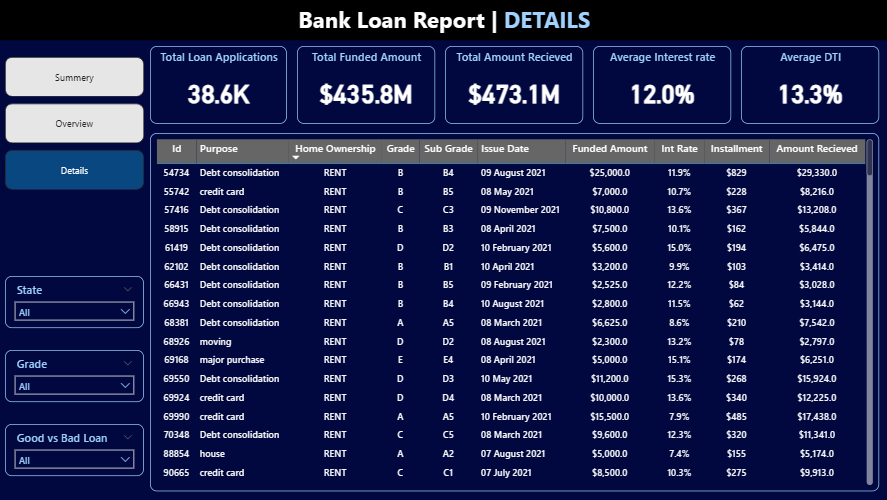

What the dashboard file says about the page in this screenshot:
{"tool":"powerbi","page":{"name":"Details","canvas":[1280,720],"ordinal":2},"visuals":[{"type":"textbox","box":[0,0,1280.2,57.6],"z":0},{"type":"card","title":"Total Loan Applications","fields":{"Values":["_Measures.Total Loan Applications"]},"box":[216,66.2,197.3,112.3],"z":1000},{"type":"card","title":"Total Funded Amount","fields":{"Values":["_Measures.Total Funded Amount"]},"box":[427.7,66.2,198.7,112.3],"z":2000},{"type":"card","title":"Total Amount Recieved","fields":{"Values":["_Measures.Total Amount recieved"]},"box":[640.8,66.2,198.7,112.3],"z":3000},{"type":"card","title":"Average Interest rate","fields":{"Values":["_Measures.Avg Interest Rate"]},"box":[853.9,66.2,198.7,112.3],"z":4000},{"type":"card","title":"Average DTI","fields":{"Values":["_Measures.Avg DTI"]},"box":[1067,66.2,198.7,112.3],"z":5000},{"type":"slicer","fields":{"Values":["public financial_loan.address_state"]},"box":[7.2,397.4,200.2,74.9],"z":6000},{"type":"slicer","fields":{"Values":["public financial_loan.grade"]},"box":[7.2,504,200.2,74.9],"z":7000},{"type":"slicer","fields":{"Values":["public financial_loan.Good vs Bad Loan"]},"box":[7.2,610.6,200.2,74.9],"z":8000},{"type":"tableEx","fields":{"Values":["public financial_loan.id","public financial_loan.purpose","public financial_loan.home_ownership","public financial_loan.grade","public financial_loan.sub_grade","public financial_loan.issue_date","_Measures.Total Funded Amount","Sum(public financial_loan.int_rate)","Sum(public financial_loan.installment)","_Measures.Total Amount recieved"]},"box":[216,191.5,1049.8,515.5],"z":9000},{"type":"pageNavigator","box":[7.2,82.1,200.2,191.5],"z":10000}]}

Visuals, with their boxes in screenshot pixels (x1, y1, x2, y2), scaled from the page's 1280x720 canvas onto the 887x500 screenshot:
textbox: l=0, t=0, r=886, b=40
"Total Loan Applications" card: l=150, t=46, r=286, b=124
"Total Funded Amount" card: l=296, t=46, r=434, b=124
"Total Amount Recieved" card: l=444, t=46, r=582, b=124
"Average Interest rate" card: l=592, t=46, r=729, b=124
"Average DTI" card: l=739, t=46, r=877, b=124
slicer - public financial_loan.address_state: l=5, t=276, r=144, b=328
slicer - public financial_loan.grade: l=5, t=350, r=144, b=402
slicer - public financial_loan.Good vs Bad Loan: l=5, t=424, r=144, b=476
tableEx - public financial_loan.id x public financial_loan.purpose: l=150, t=133, r=877, b=491
pageNavigator: l=5, t=57, r=144, b=190
